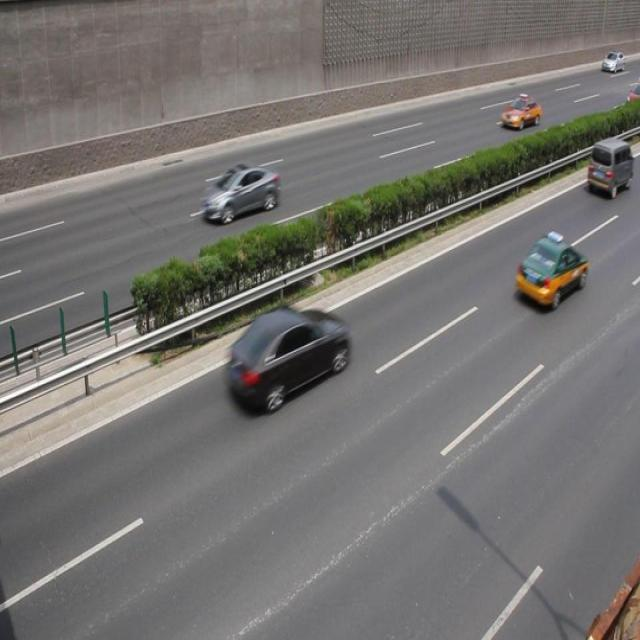car: (224, 307, 349, 415), (513, 233, 587, 310), (200, 164, 280, 226), (500, 93, 540, 131)
truck: (585, 137, 632, 197)
